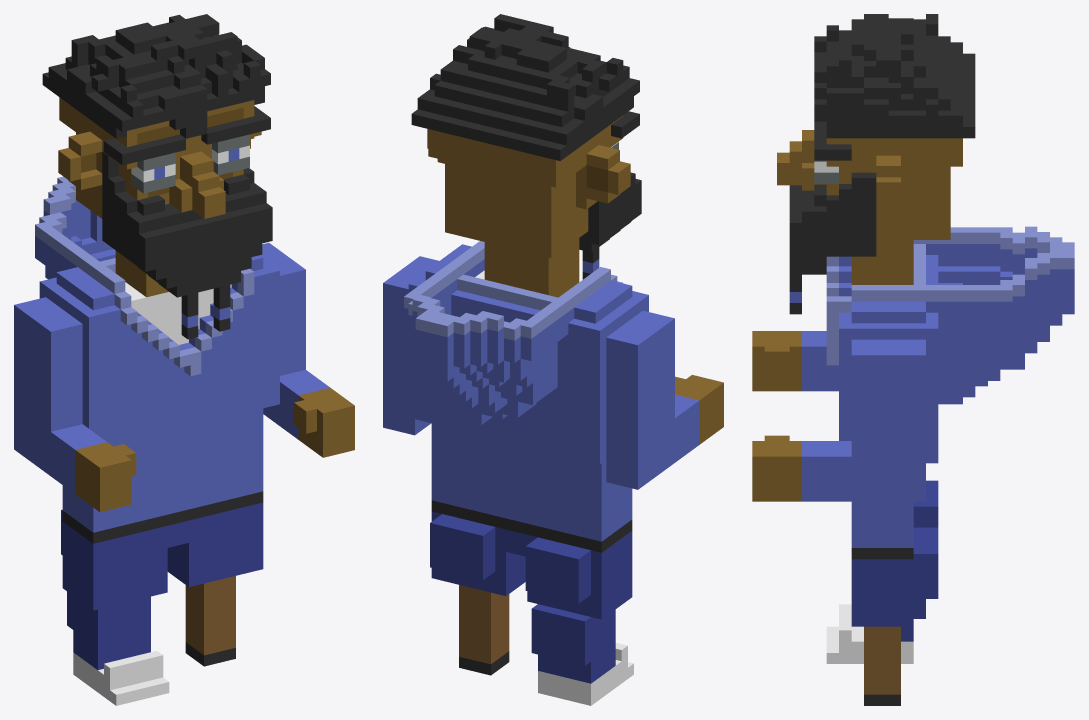
File: indiaCEO.gltf
The picture shows the model from 3 angles, left to right: view 1: azimuth 30°, elevation 25°; view 2: azimuth 150°, elevation 25°; view 3: azimuth 270°, elevation 25°; orthographic projection.
Size of the model in its own units: 24 by 57 by 26.
Materials: 1 (1 with a texture image).
